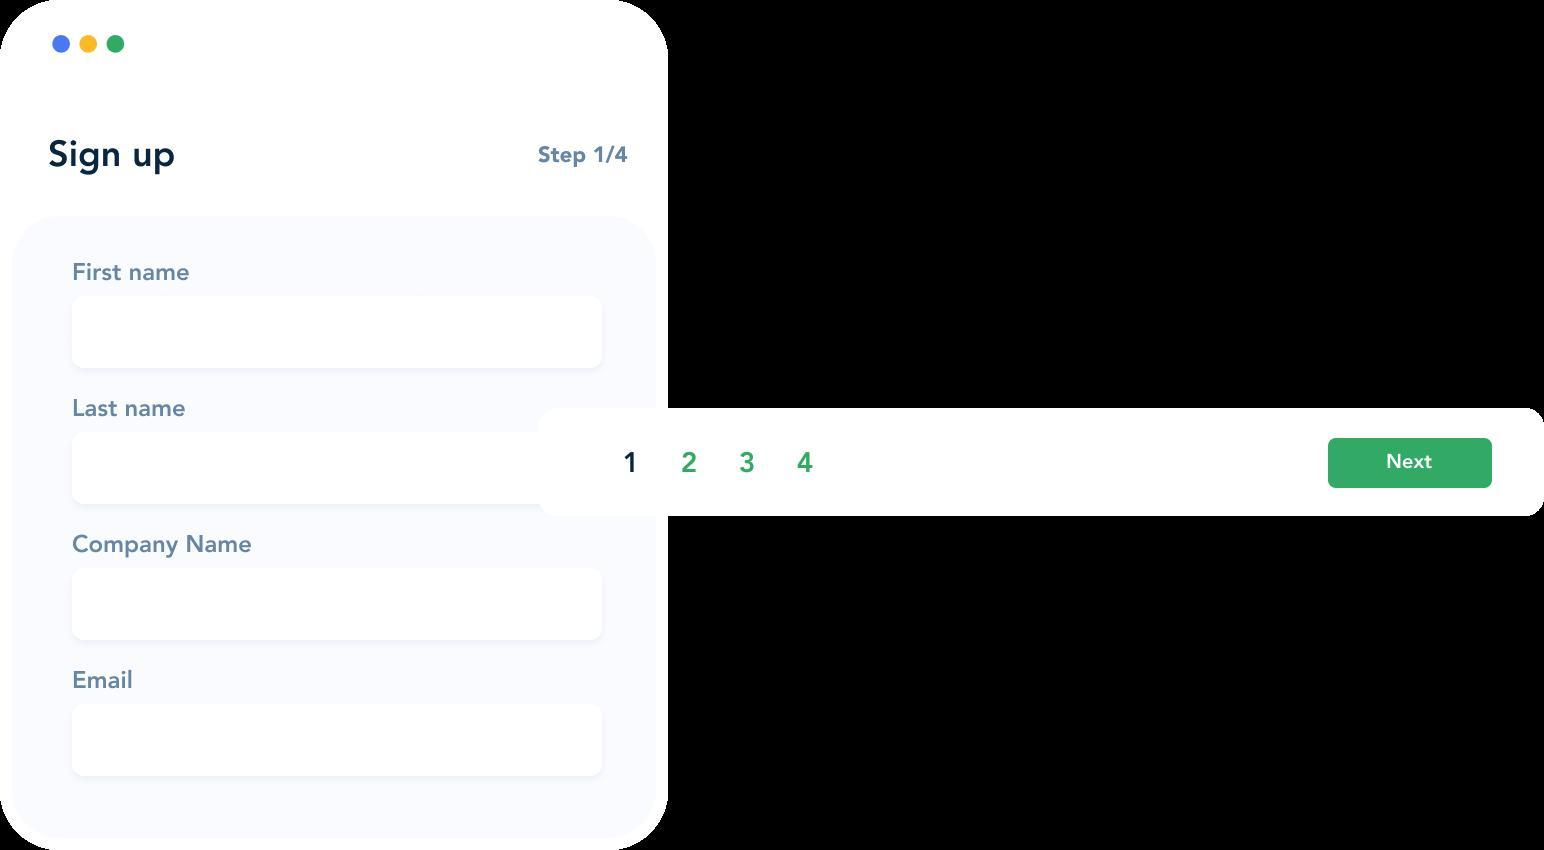button: (1328, 440, 1493, 489)
input: (65, 431, 617, 507), (72, 704, 607, 778), (73, 299, 603, 371), (75, 572, 603, 638)
label: (69, 530, 256, 559), (73, 256, 204, 288), (69, 390, 191, 421), (68, 668, 144, 697)
